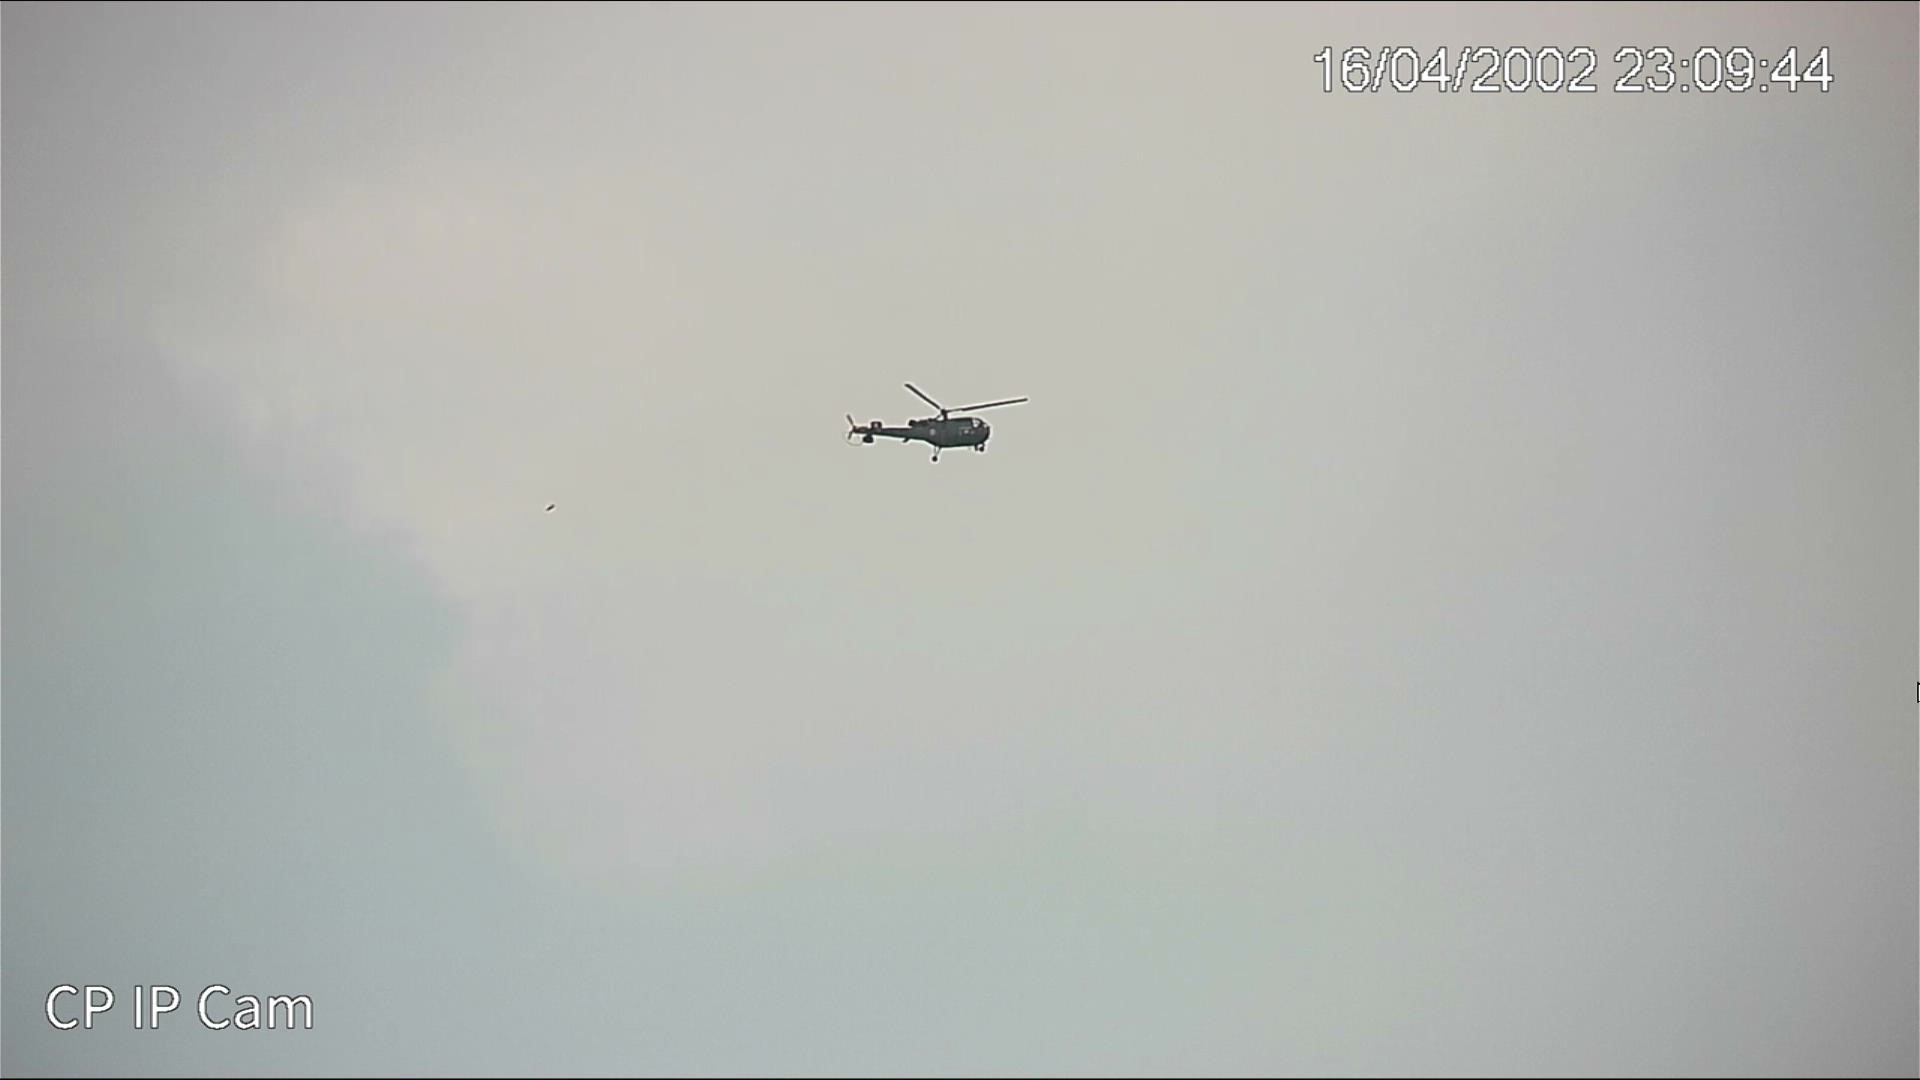SU_30: (845, 401, 997, 465)
